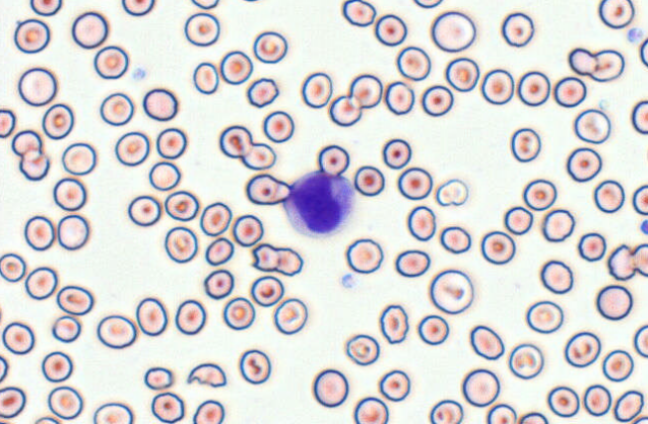MONO: (281, 169, 356, 239)
PLT: (627, 27, 647, 43), (340, 272, 358, 289), (639, 217, 648, 236)
RBC: (429, 268, 473, 314), (430, 10, 476, 52), (17, 67, 57, 106), (461, 368, 500, 407), (311, 368, 349, 407), (96, 314, 137, 349), (245, 173, 289, 205), (345, 237, 383, 274), (563, 331, 601, 368), (71, 11, 108, 49), (595, 284, 633, 320), (573, 108, 611, 144), (508, 342, 544, 379), (135, 296, 168, 336), (114, 130, 150, 166), (395, 45, 431, 81), (566, 146, 602, 182), (13, 18, 50, 53), (272, 297, 307, 334), (469, 324, 504, 360), (47, 385, 83, 420), (164, 226, 198, 263), (525, 300, 563, 333), (378, 303, 408, 344), (444, 57, 479, 92), (142, 87, 178, 121), (56, 214, 90, 250), (480, 68, 514, 104), (184, 12, 220, 46), (500, 11, 534, 47), (516, 70, 550, 106), (41, 102, 74, 139), (589, 48, 624, 82), (99, 92, 134, 126), (397, 166, 432, 200), (93, 45, 128, 79), (348, 73, 382, 108), (539, 259, 573, 294), (480, 230, 515, 264), (61, 142, 97, 175), (238, 348, 271, 384), (300, 71, 332, 108), (24, 266, 58, 300), (52, 177, 86, 211), (541, 208, 575, 242), (344, 333, 379, 366), (252, 30, 287, 63), (174, 299, 206, 335), (23, 215, 55, 251), (56, 284, 93, 315), (219, 124, 252, 158), (222, 296, 255, 330), (219, 50, 252, 84), (199, 201, 231, 236), (522, 178, 557, 210), (1, 321, 34, 354), (374, 13, 407, 46), (601, 349, 634, 382), (127, 194, 161, 226), (150, 391, 184, 423), (593, 179, 625, 213), (164, 190, 199, 221), (510, 127, 541, 162), (406, 205, 436, 241), (328, 94, 361, 126), (546, 385, 579, 417), (262, 110, 294, 143), (420, 84, 453, 116), (378, 368, 410, 401), (250, 275, 284, 306), (384, 80, 414, 115), (394, 248, 430, 277), (598, 0, 634, 29), (41, 350, 73, 382), (155, 127, 187, 159), (148, 160, 181, 191), (613, 389, 644, 422), (553, 76, 586, 107), (240, 142, 276, 170), (19, 149, 50, 181), (232, 214, 263, 246), (317, 144, 349, 175), (417, 314, 449, 345), (246, 77, 279, 107), (203, 268, 234, 299), (353, 165, 384, 196), (582, 383, 611, 416), (341, 0, 376, 27), (353, 396, 388, 423), (381, 138, 411, 169), (439, 225, 471, 254), (435, 178, 468, 206), (204, 236, 234, 266), (503, 205, 533, 235), (192, 61, 219, 94), (51, 314, 81, 343), (577, 231, 606, 261), (0, 385, 26, 418), (275, 246, 303, 276), (93, 402, 133, 423), (428, 399, 463, 423), (11, 129, 42, 156), (0, 252, 26, 282), (192, 399, 224, 423), (143, 366, 173, 390), (486, 403, 516, 423), (631, 100, 647, 134), (631, 243, 647, 276), (121, 0, 154, 16), (29, 0, 62, 16), (0, 108, 16, 138), (633, 324, 647, 358), (632, 184, 647, 215), (518, 411, 548, 423), (639, 37, 648, 67), (190, 0, 219, 9), (412, 0, 442, 8), (0, 354, 8, 382), (34, 415, 61, 423), (631, 415, 647, 423), (238, 0, 263, 3)
Schistocyte: (187, 361, 226, 390), (607, 243, 636, 280), (251, 242, 277, 271)
